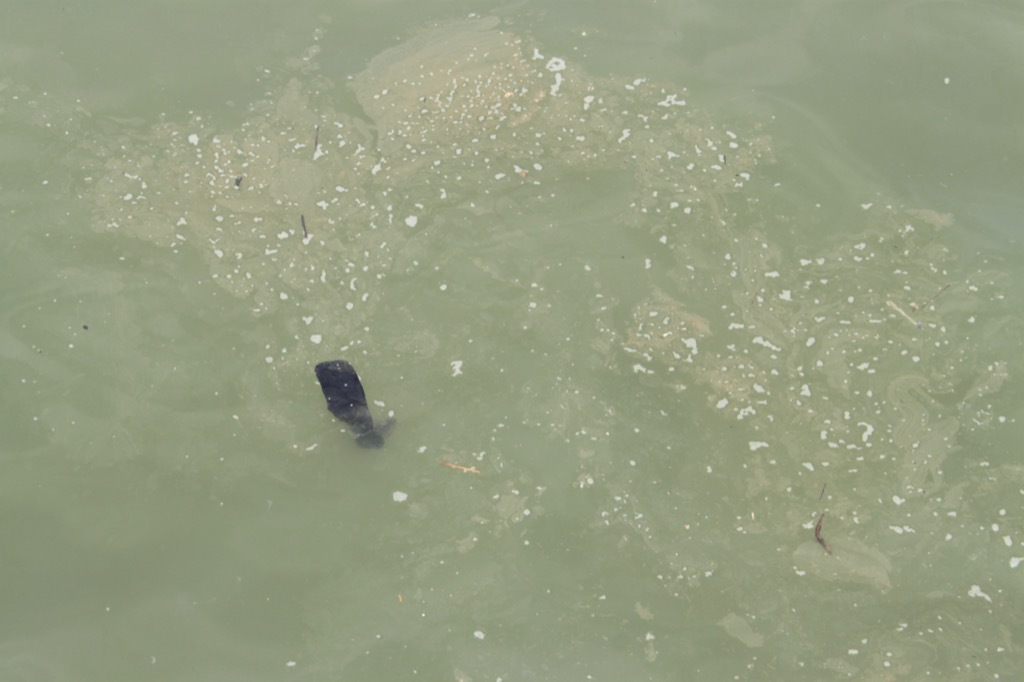organic: (809, 504, 836, 565), (437, 451, 486, 483), (301, 121, 332, 157), (289, 210, 317, 240), (223, 169, 250, 200), (76, 318, 103, 339)
plastic: (295, 340, 419, 463)
